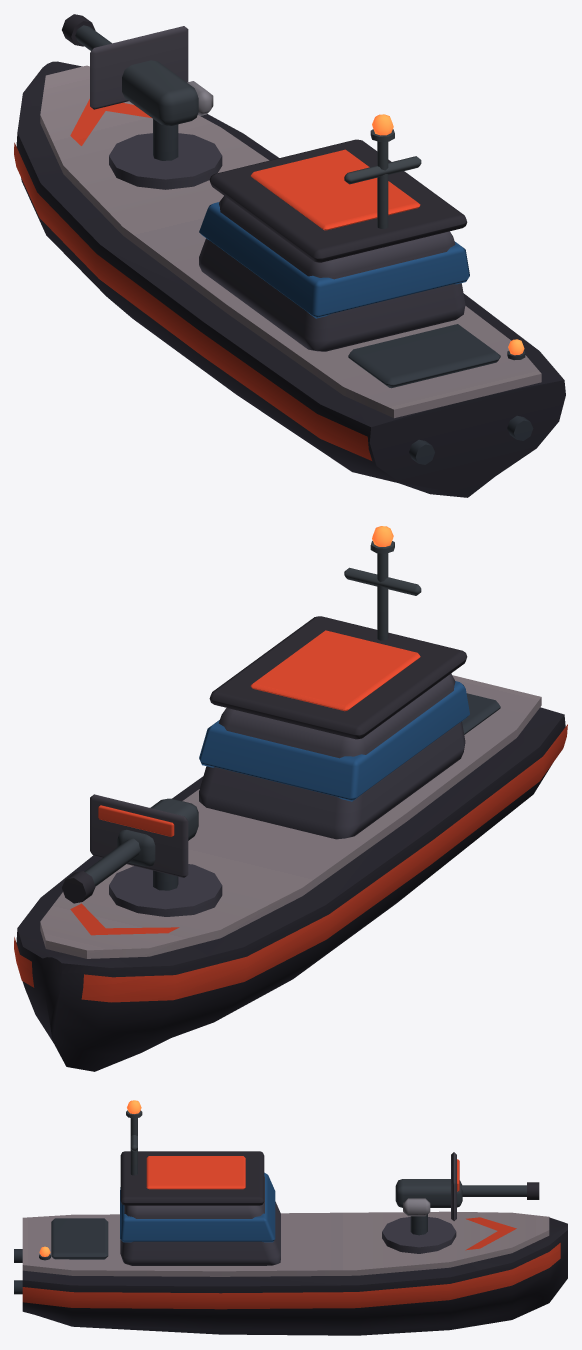
Rendered from patrol-boat.glb.
The picture shows the model from 3 angles, top to bottom: view 1: azimuth 30°, elevation 25°; view 2: azimuth 150°, elevation 25°; view 3: azimuth 270°, elevation 25°; orthographic projection. The views are drawn at different scales.
Visible parts, largest first — view 1: patrol-boat Ashen charcoal, patrol-boat Bunker concrete, patrol-boat Ashen slate, patrol-boat Ember paint, patrol-boat Tinted glass, patrol-boat Gunmetal, patrol-boat Turret Gunmetal, patrol-boat Turret Ashen slate, patrol-boat Ember glow; view 2: patrol-boat Ashen charcoal, patrol-boat Bunker concrete, patrol-boat Ember paint, patrol-boat Ashen slate, patrol-boat Tinted glass, patrol-boat Turret Ashen slate, patrol-boat Turret Gunmetal, patrol-boat Gunmetal, patrol-boat Turret Ember paint, patrol-boat Turret Ashen charcoal; view 3: patrol-boat Ashen charcoal, patrol-boat Bunker concrete, patrol-boat Ember paint, patrol-boat Ashen slate, patrol-boat Tinted glass, patrol-boat Gunmetal, patrol-boat Turret Gunmetal, patrol-boat Turret Ash grey, patrol-boat Turret Ashen slate.
Part boxes in pixels (x1,y1,x2,y2): patrol-boat Ashen charcoal: [16, 61, 565, 497]; patrol-boat Bunker concrete: [40, 65, 541, 418]; patrol-boat Ashen slate: [109, 133, 465, 351]; patrol-boat Ember paint: [14, 99, 420, 460]; patrol-boat Tinted glass: [199, 202, 469, 318]; patrol-boat Gunmetal: [344, 129, 533, 464]; patrol-boat Turret Gunmetal: [75, 25, 198, 160]; patrol-boat Turret Ashen slate: [90, 26, 188, 109]; patrol-boat Ember glow: [372, 114, 524, 355]; patrol-boat Ashen charcoal: [16, 616, 565, 1071]; patrol-boat Bunker concrete: [40, 675, 541, 958]; patrol-boat Ember paint: [14, 630, 567, 1002]; patrol-boat Ashen slate: [109, 673, 465, 916]; patrol-boat Tinted glass: [199, 681, 469, 801]; patrol-boat Turret Ashen slate: [90, 794, 188, 877]; patrol-boat Turret Gunmetal: [84, 798, 198, 890]; patrol-boat Gunmetal: [344, 541, 500, 734]; patrol-boat Turret Ember paint: [98, 805, 174, 836]; patrol-boat Turret Ashen charcoal: [62, 871, 95, 903]; patrol-boat Ashen charcoal: [22, 1151, 567, 1335]; patrol-boat Bunker concrete: [22, 1211, 549, 1276]; patrol-boat Ember paint: [22, 1156, 560, 1309]; patrol-boat Ashen slate: [120, 1176, 456, 1265]; patrol-boat Tinted glass: [120, 1172, 275, 1242]; patrol-boat Gunmetal: [14, 1110, 142, 1294]; patrol-boat Turret Gunmetal: [395, 1179, 526, 1235]; patrol-boat Turret Ash grey: [403, 1198, 430, 1216]; patrol-boat Turret Ashen slate: [451, 1152, 456, 1220].
Size of the model in its own units: 1.43 by 2.1 by 4.47.
Materials: 8 (6 with a texture image).
